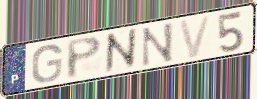5: (217, 8, 247, 54)
G: (30, 43, 64, 85)
N: (104, 26, 139, 76), (140, 21, 175, 69)
P: (65, 35, 104, 81)
V: (177, 14, 213, 60)
